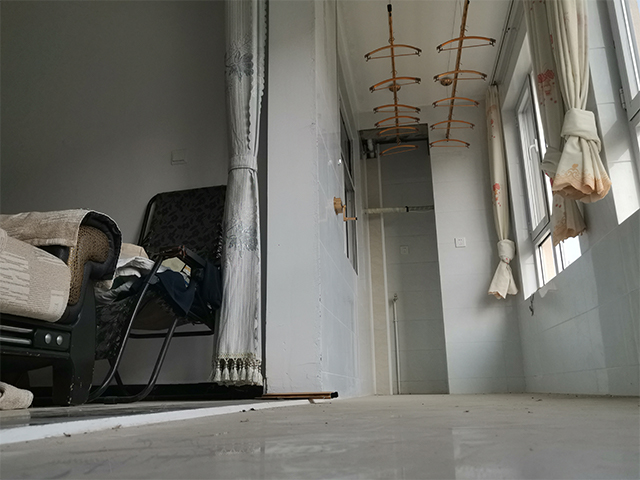curtain: (206, 1, 266, 390)
stool: (87, 183, 227, 406)
分: (1, 208, 124, 410)
